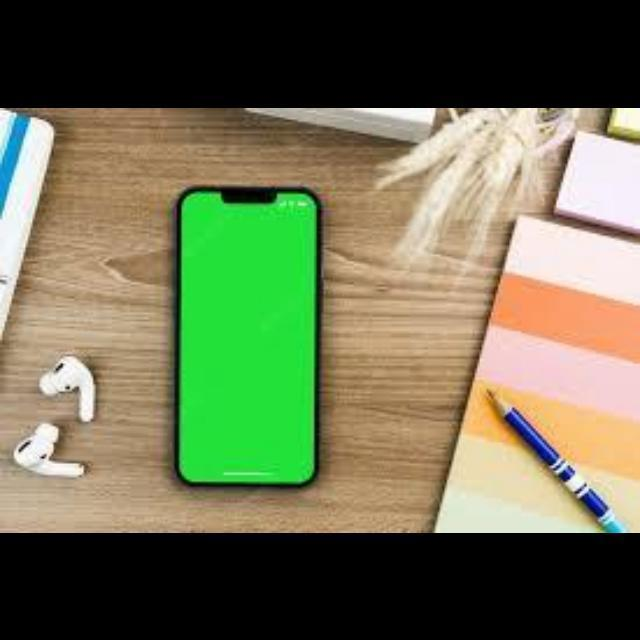phone: (180, 181, 314, 494)
